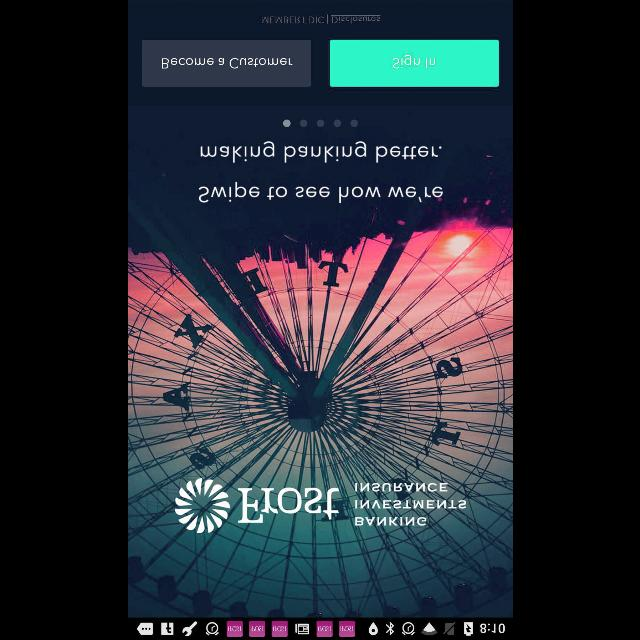backgroundimage: (128, 0, 512, 618)
image: (173, 478, 464, 534)
pageindicator: (282, 119, 358, 128)
text: (199, 141, 441, 165), (196, 182, 442, 204), (260, 13, 380, 24)
textbutton: (142, 40, 310, 86), (330, 40, 498, 86)
uppertaskbar: (128, 617, 512, 639)
